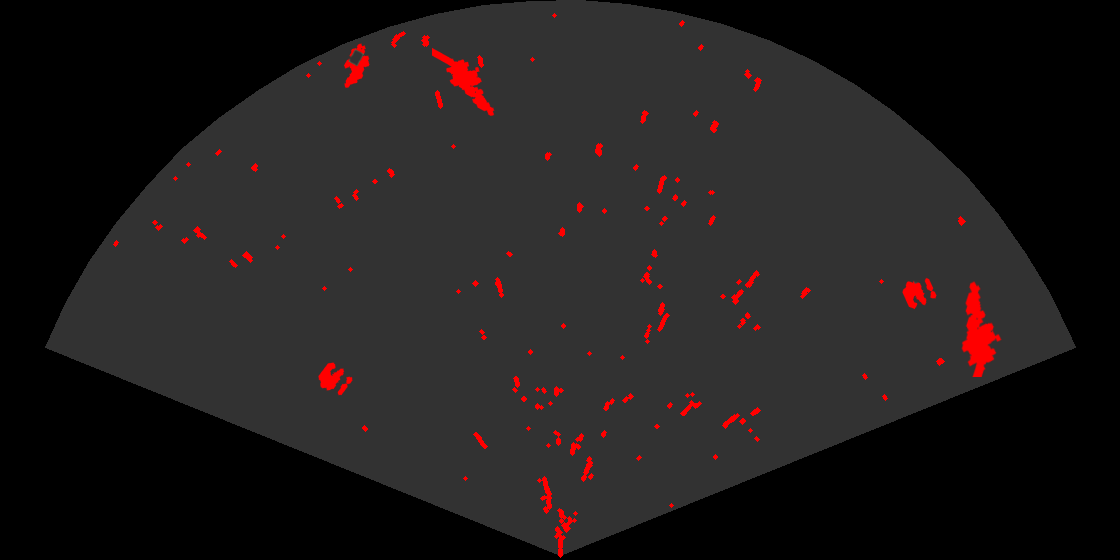AUV: (342, 42, 371, 90)
ball: (317, 361, 354, 397), (901, 276, 938, 311)
frogman: (432, 46, 496, 118), (960, 280, 1003, 377)
